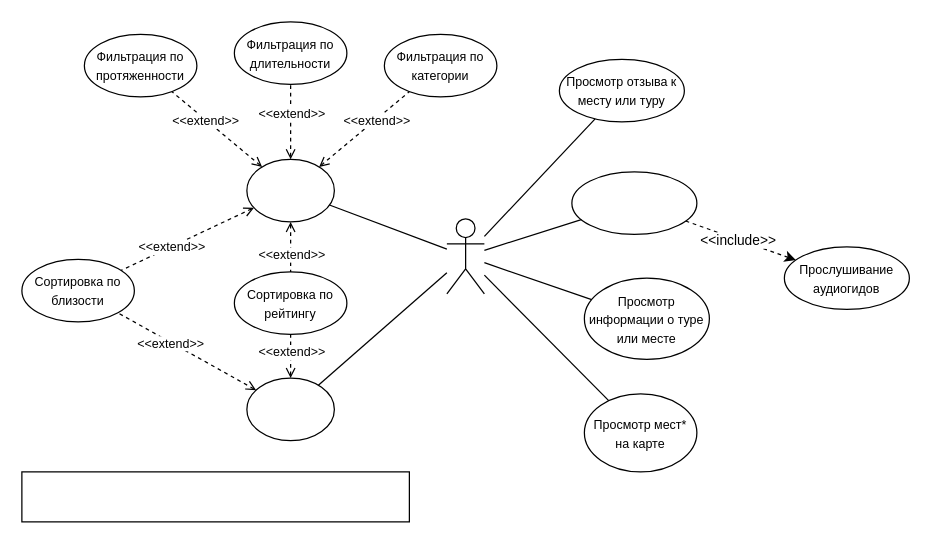
This 931x544 diagram has some shape labels left out. Each missing label, with the centre of its shape:
*Место - на данной диаграмме синоним слова "достопримечательность": point (215, 496)
Анонимный пользователь: point (465, 256)
Поиск мест: point (290, 409)
Поиск туров: point (290, 190)
Прохождение тура или места: point (634, 202)
